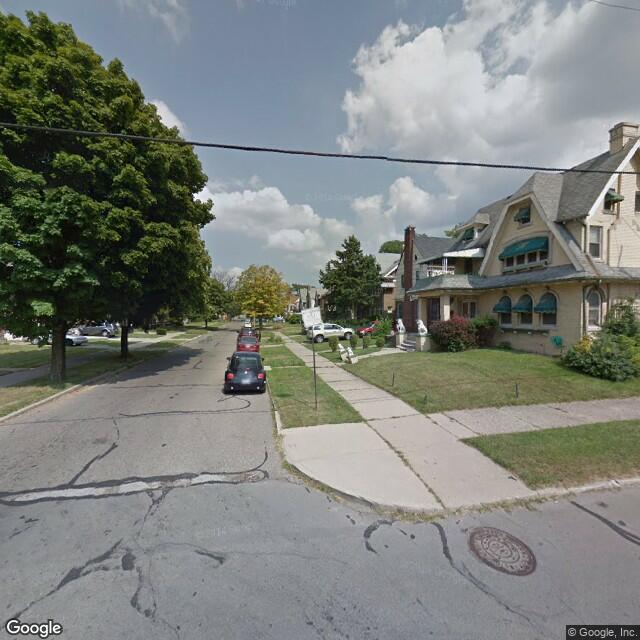litter: (610, 479, 622, 490)
